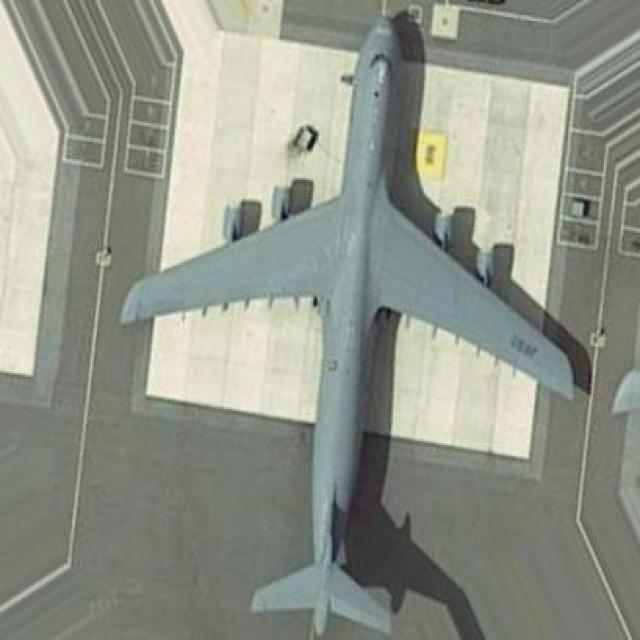C-5_TopDown: (114, 7, 593, 632)
